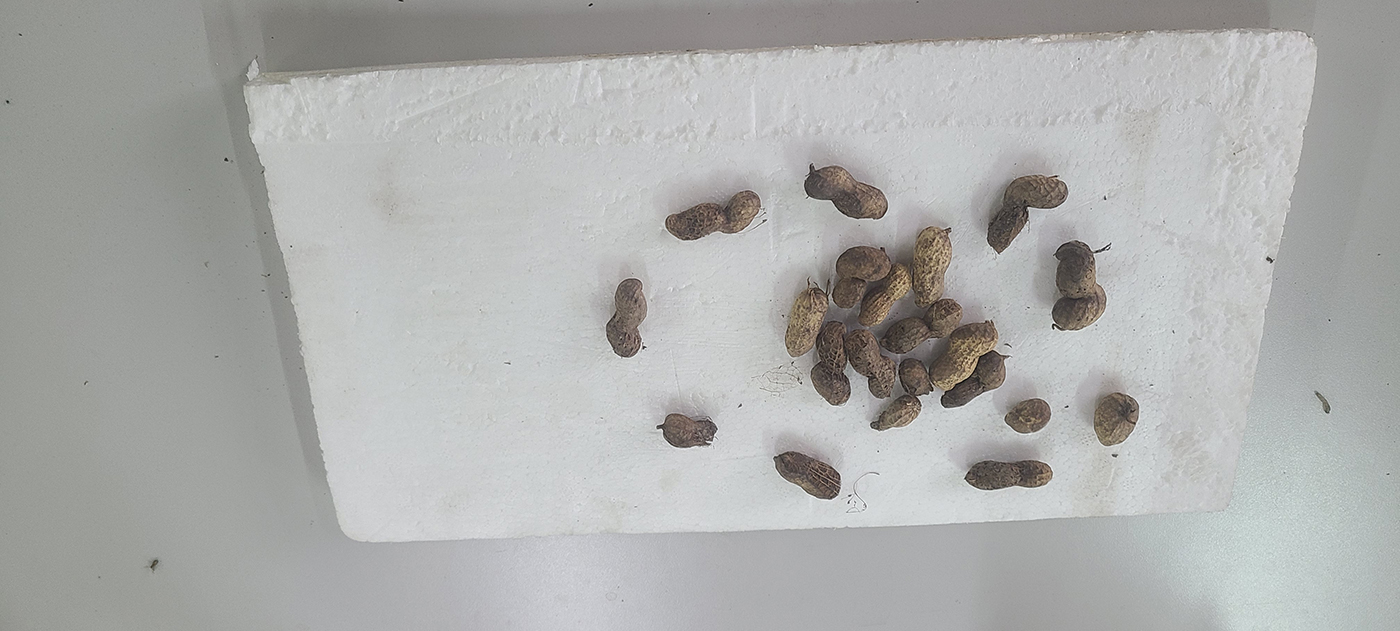l: (986, 175, 1068, 254), (1052, 241, 1107, 331), (929, 322, 999, 392), (664, 190, 761, 240), (880, 297, 964, 354), (804, 165, 888, 219), (942, 351, 1007, 409), (774, 450, 841, 501), (845, 331, 896, 398), (812, 320, 852, 405), (912, 226, 952, 310), (858, 263, 911, 325), (606, 278, 647, 357), (784, 288, 827, 359), (966, 459, 1053, 490), (1092, 393, 1140, 447), (663, 412, 719, 449), (870, 393, 922, 432), (836, 246, 893, 280), (1004, 400, 1052, 433), (899, 359, 934, 396), (833, 278, 866, 309)
